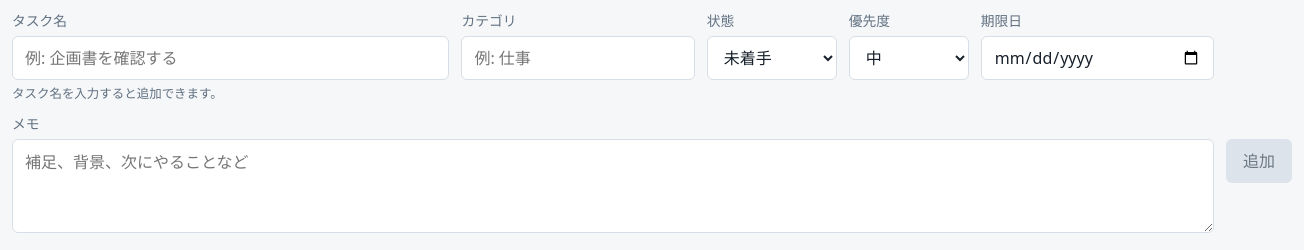
Test: TaskForm › タイトルを入力すると追加ボタンが有効になる
Step 1. Type "New Task" into the field labelled "タスク名" → (231, 58), box top-left (12, 36), bottom-right (449, 80)
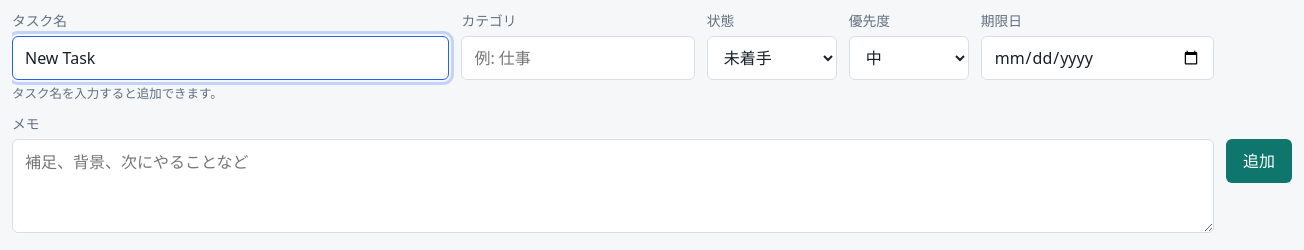
expect the button "追加" is enabled: met, box top-left (1226, 139), bottom-right (1292, 183)
